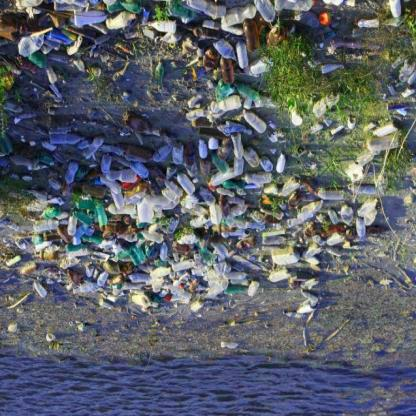Plastic: (49, 126, 86, 149), (209, 96, 243, 117), (103, 12, 135, 32), (110, 177, 127, 214), (251, 1, 279, 21), (75, 9, 106, 27), (173, 171, 196, 195), (231, 131, 245, 161), (236, 40, 248, 68)
